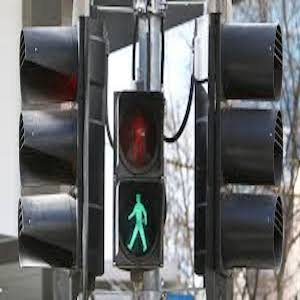green: (122, 187, 157, 253)
